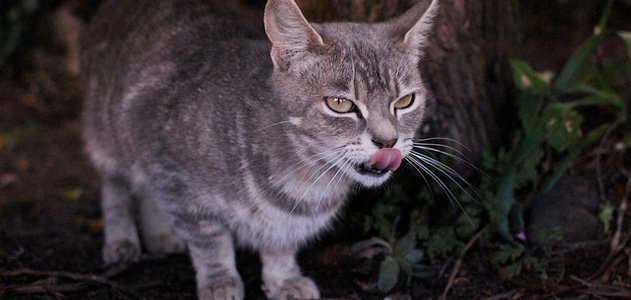Cat: (71, 1, 457, 296)
